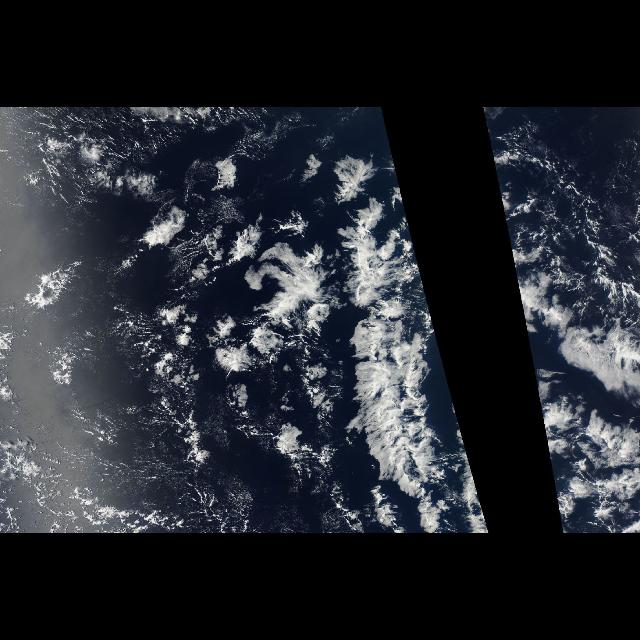Fish: (219, 150, 467, 528)
Sugar: (4, 344, 218, 526)
